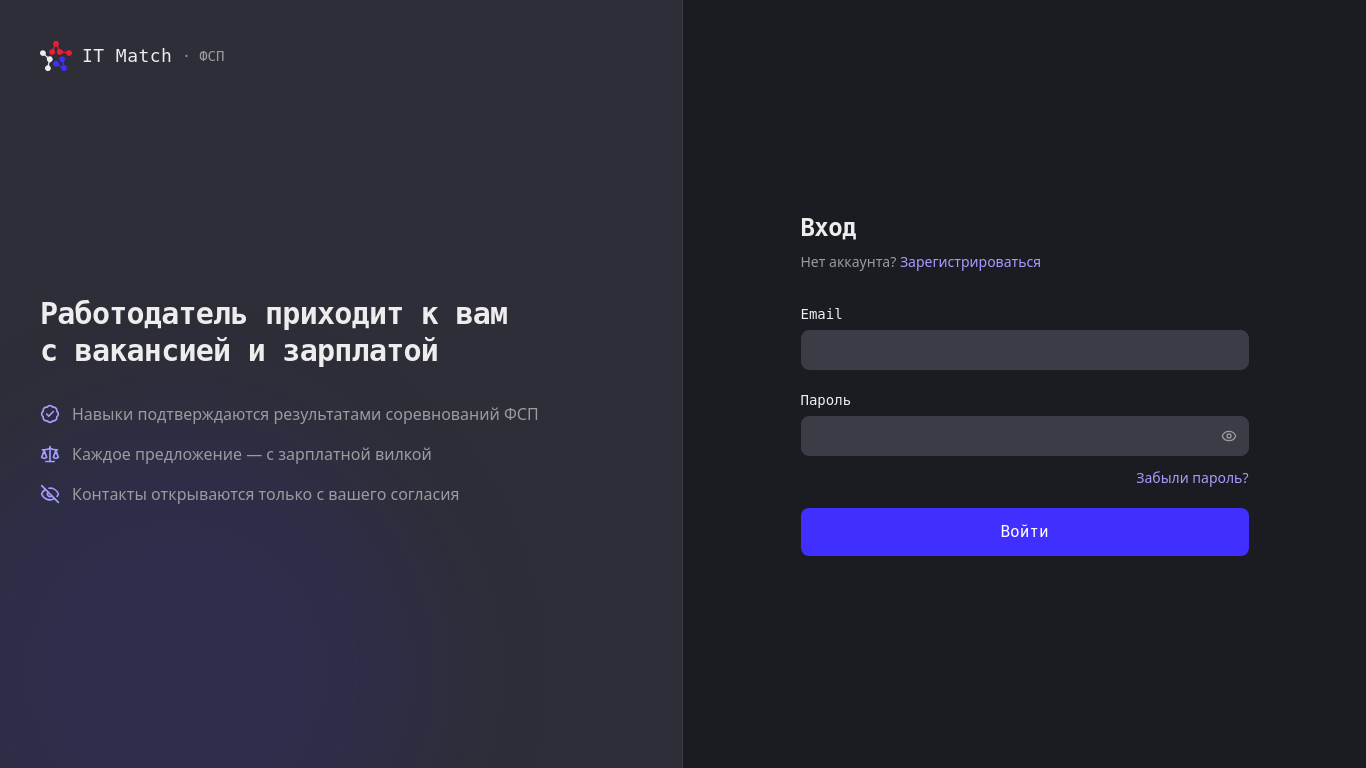
Test: admin two-factor login › skips setup for an enrolled admin and validates the code format
Type "admin@example.org" into the field labelled "Email" at (1024, 350), box [800,330,1248,370]
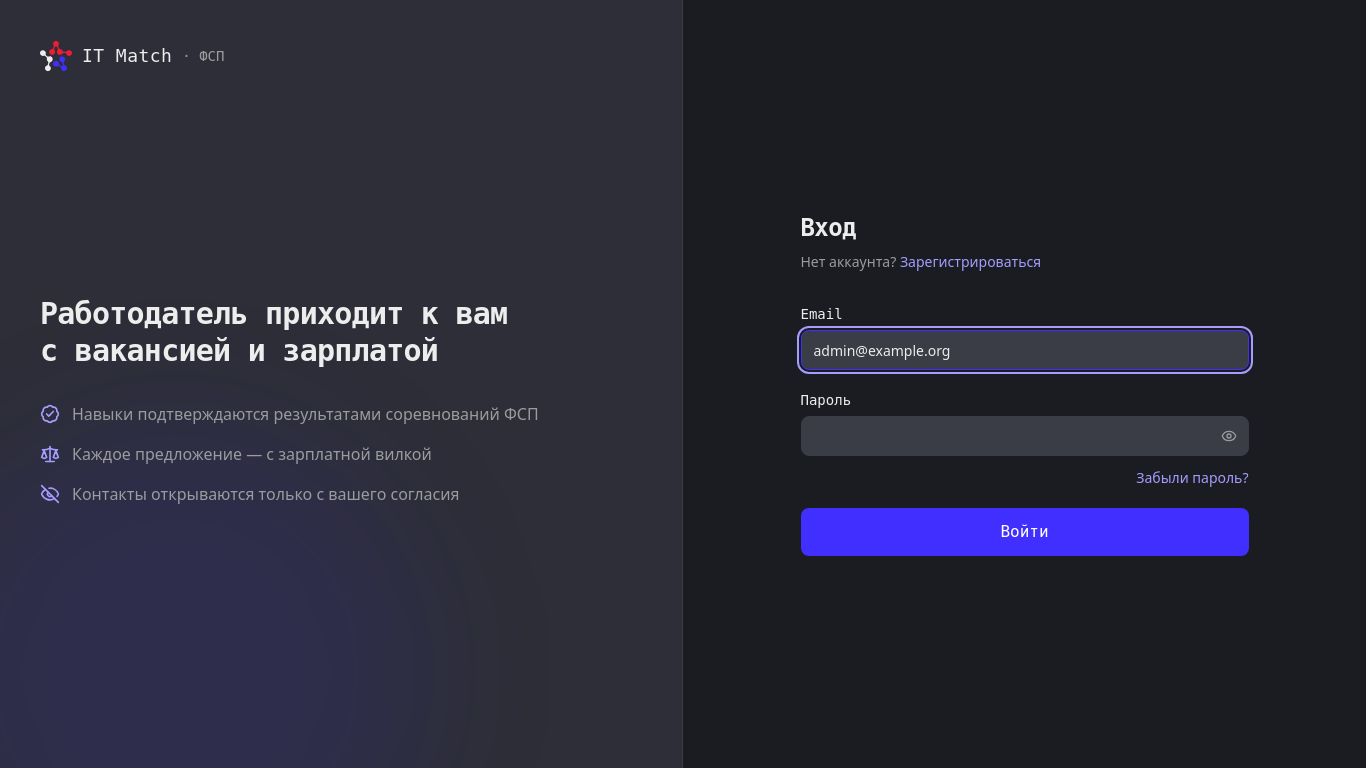
Type "Str0ng-pass-42" into the password field labelled "Пароль" at (1024, 436), box [800,416,1248,456]
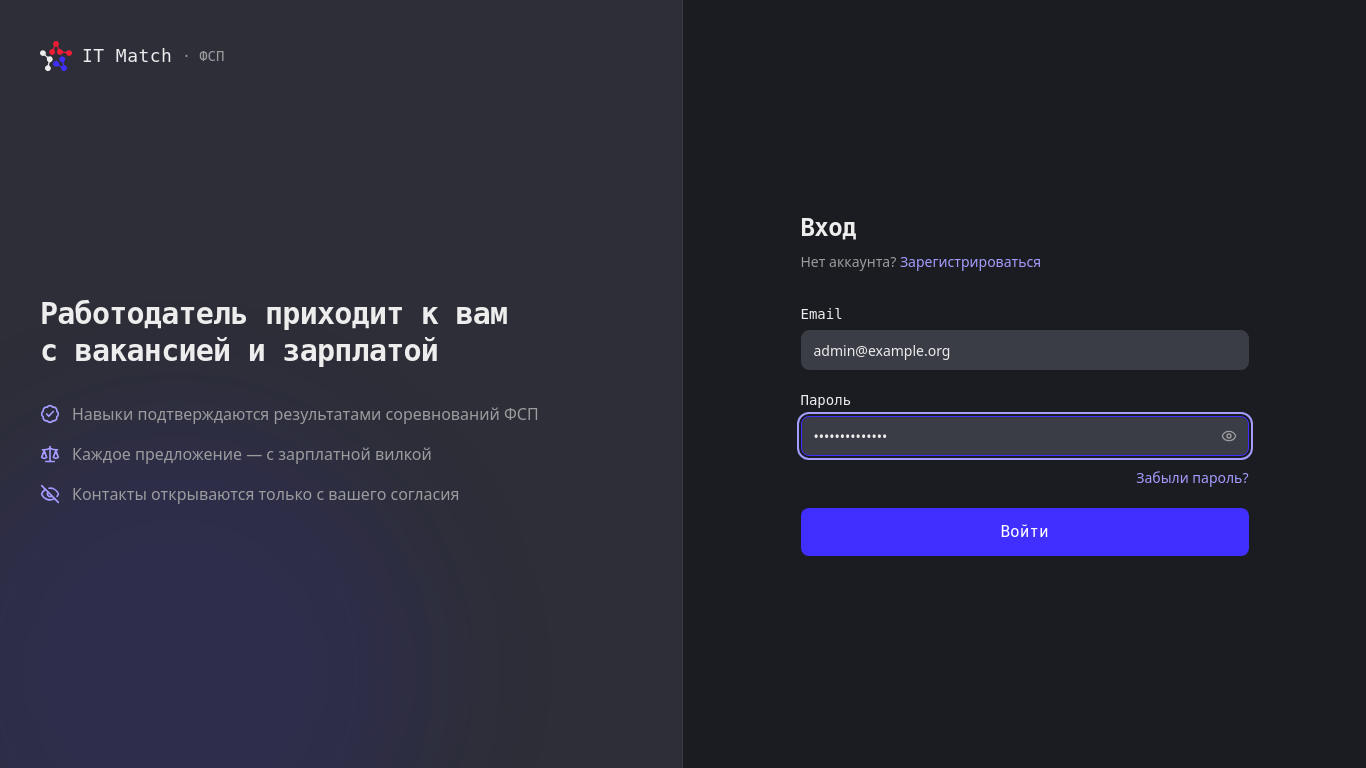
Click the button "Войти" at (1024, 532), box [800,508,1248,556]
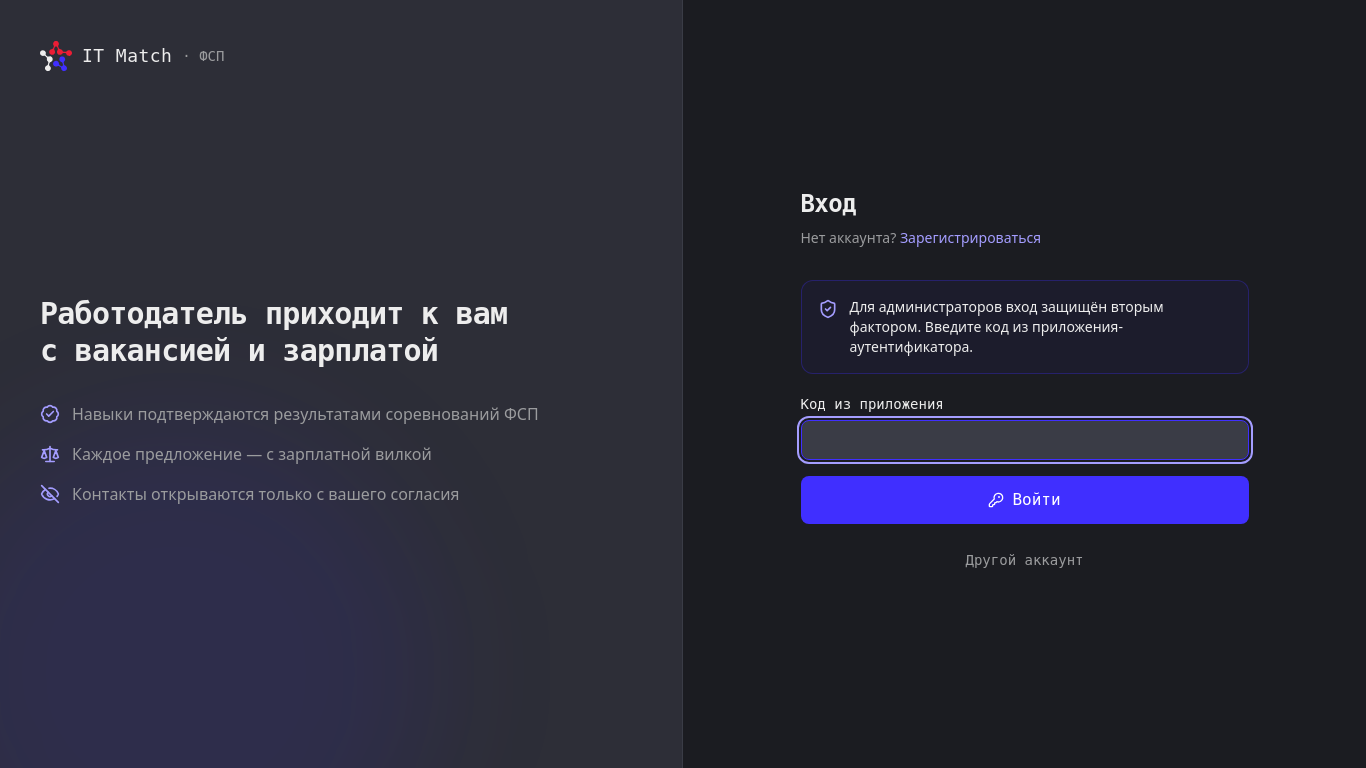
Type "12a" into the field labelled "Код из приложения" at (1024, 440), box [800,420,1248,460]
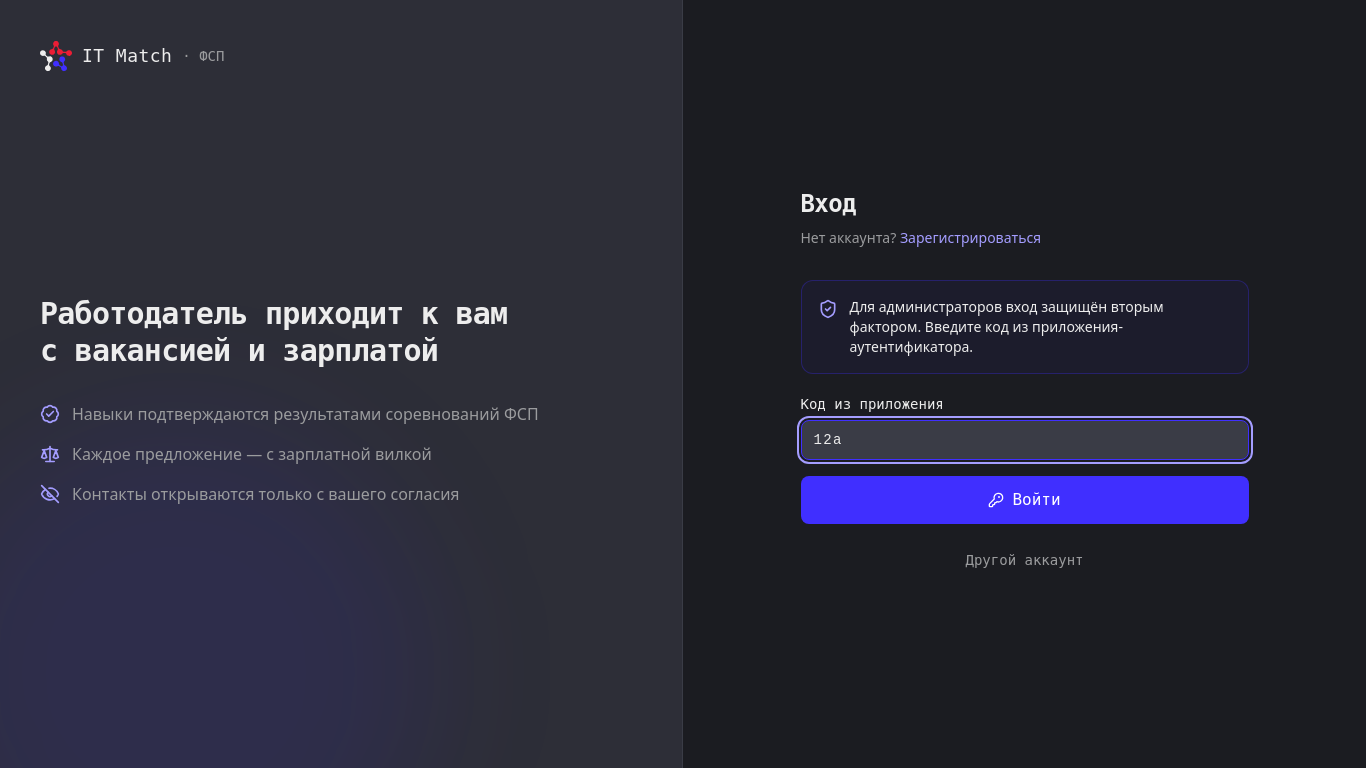
Click the button "Войти" at (1024, 500), box [800,476,1248,524]
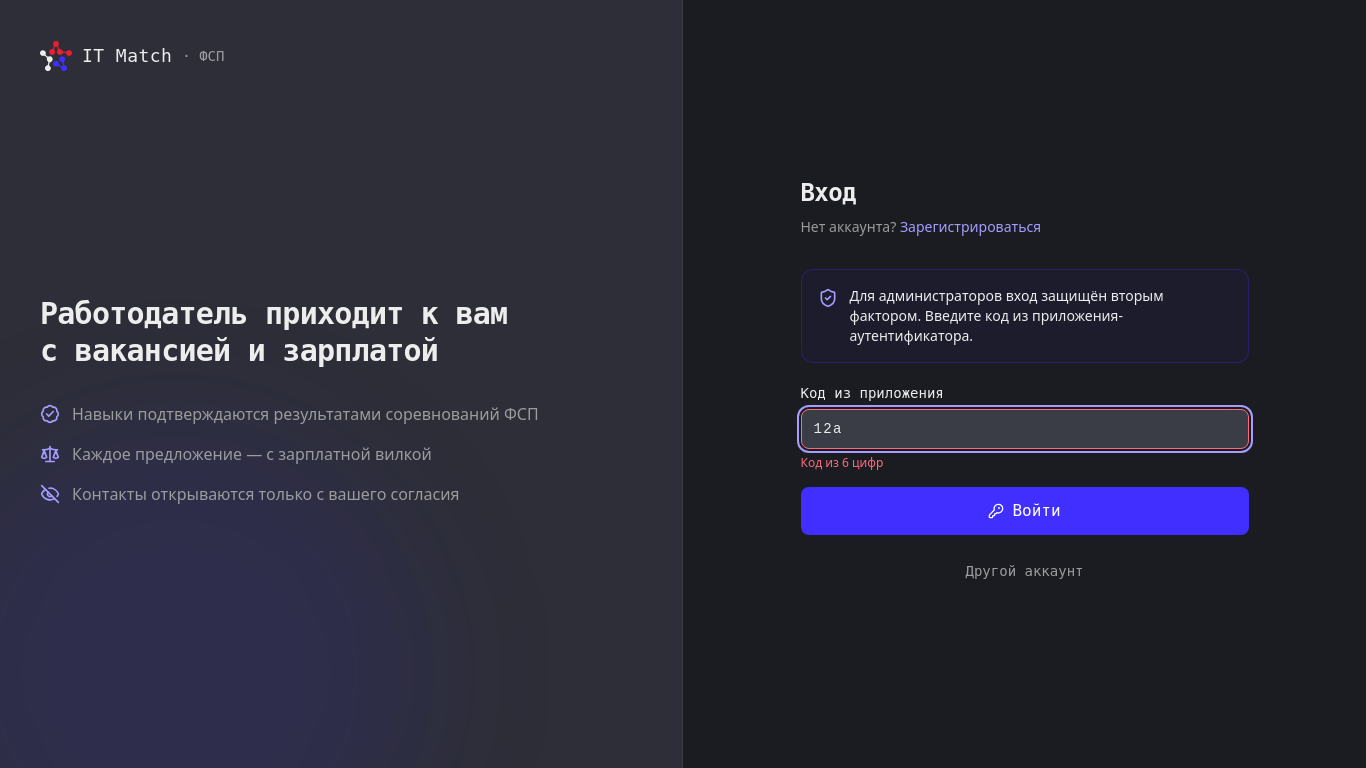
Now the text "Код из 6 цифр" is shown, box [800,454,883,471]
